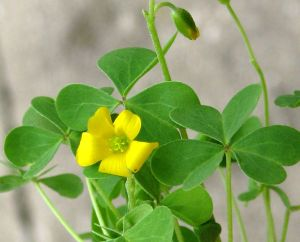oxalis: (28, 70, 300, 233)
